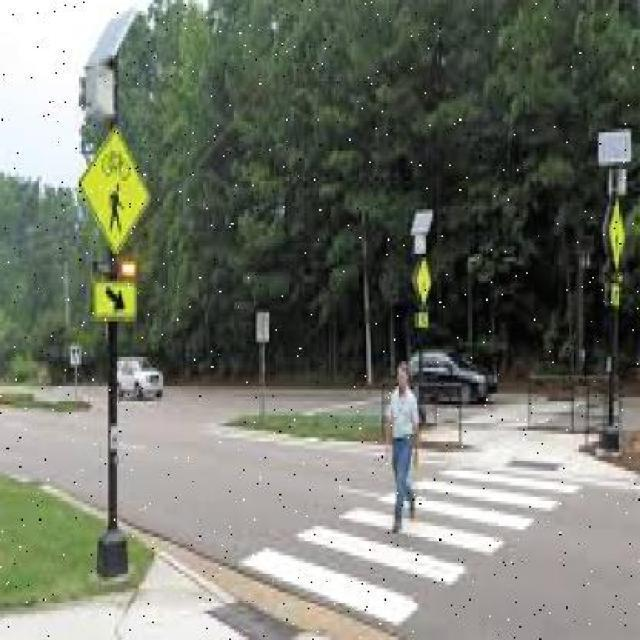Pedestrian crosswalk: (244, 468, 564, 637)
